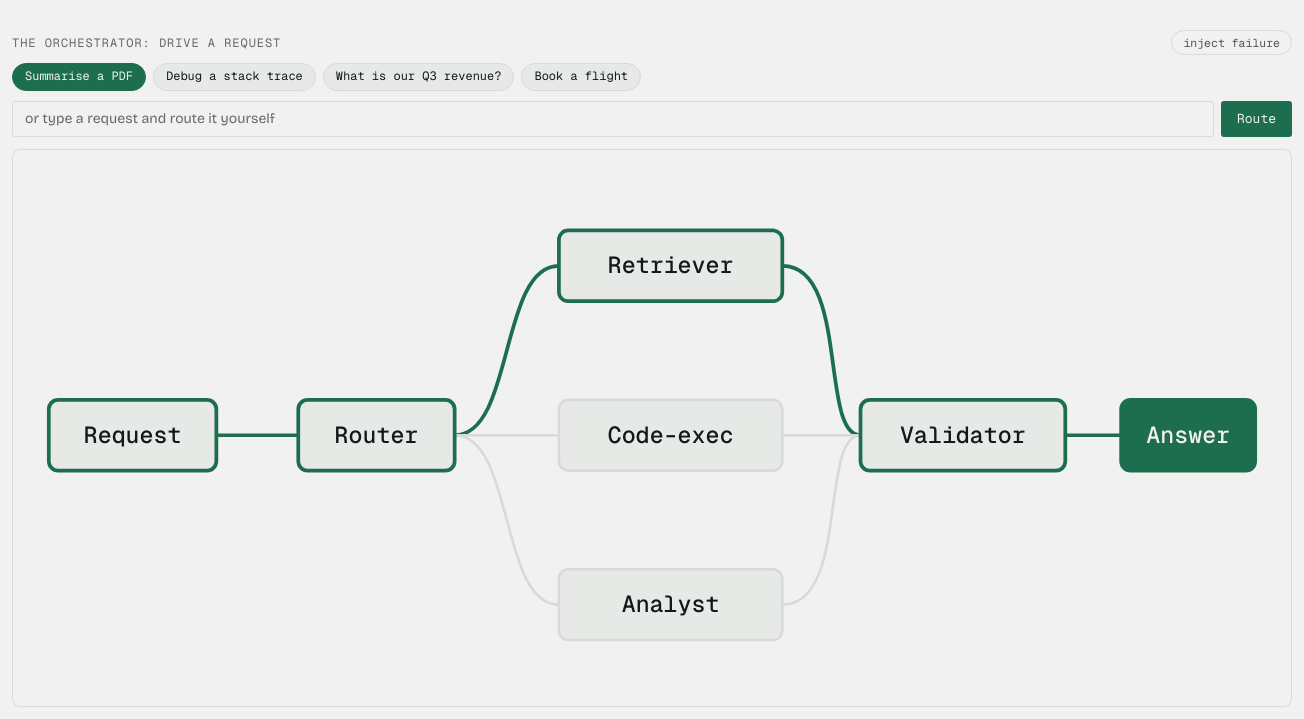
Test: Orchestrator › routes a picked request and streams the matching trace
The width and height of the screenshot is (1304, 719).
Click the button "What is our Q3 revenue?" at point(419, 77), box x1=323 y1=63 x2=514 y2=91
(page scrolled)
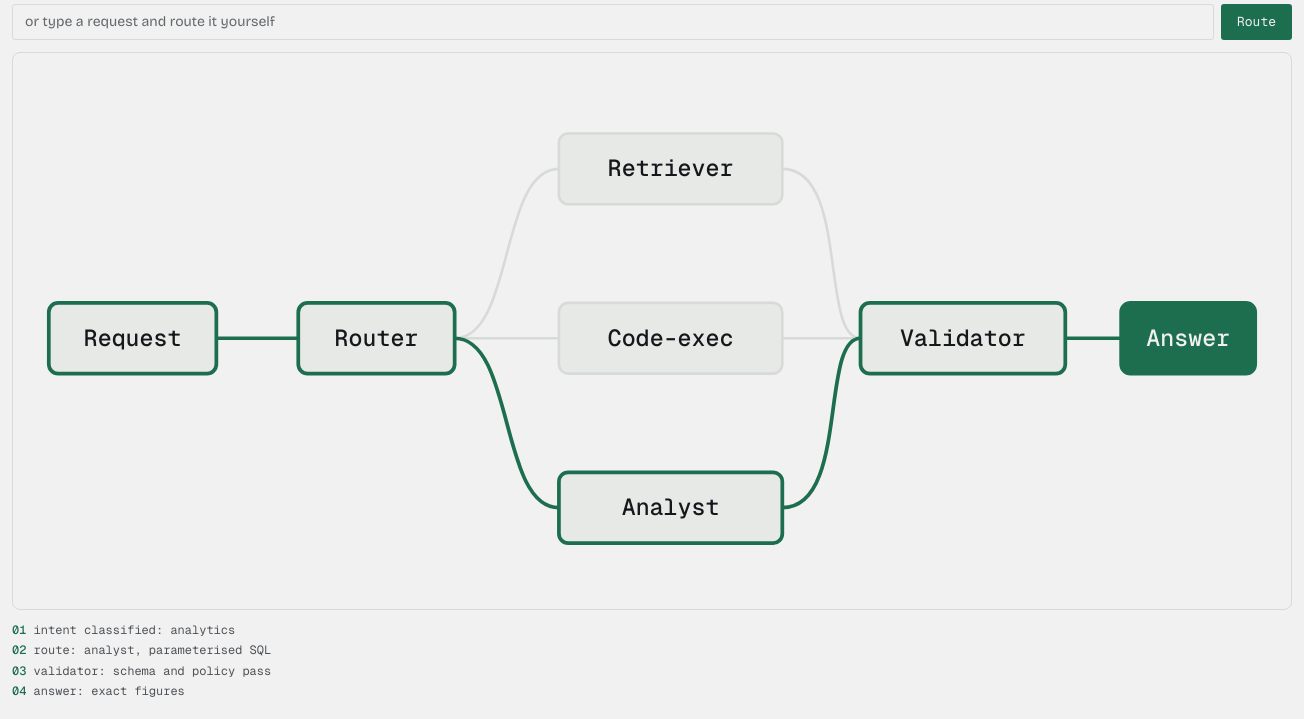
Now the text "01 intent classified: analytics" is shown, box x1=12 y1=622 x2=235 y2=638
Now the text "02 route: analyst, parameterised SQL" is shown, box x1=12 y1=642 x2=271 y2=658
